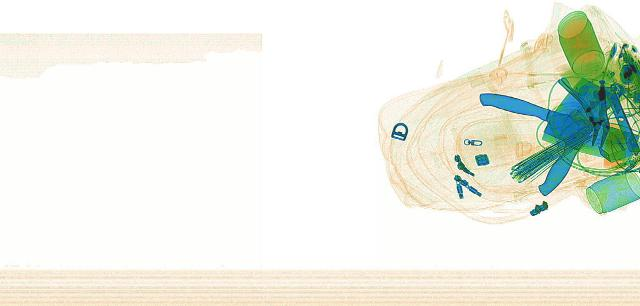Knife: (506, 76, 626, 196), (447, 88, 638, 156)
